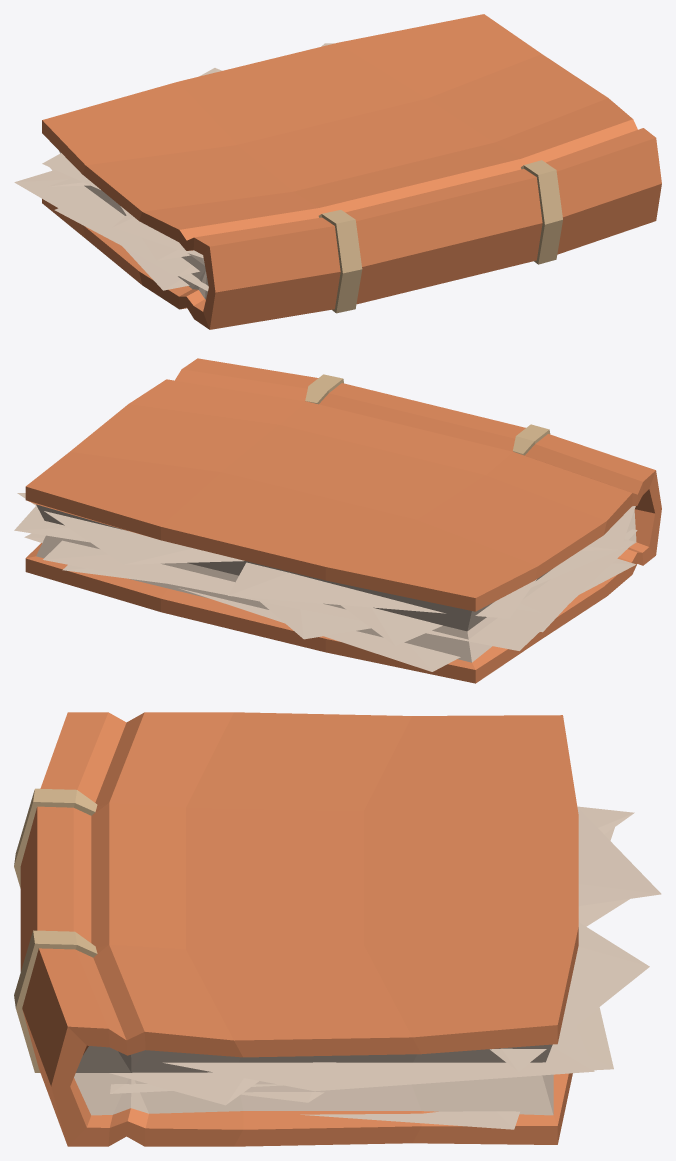
The model's file is Book02_Closed.fbx.
3 renders of one model, top to bottom at view 1: azimuth 30°, elevation 25°; view 2: azimuth 150°, elevation 25°; view 3: azimuth 270°, elevation 25°, orthographic. The views are drawn at different scales.
Parts seen in each view (by area): view 1: Book02_Closed; view 2: Book02_Closed; view 3: Book02_Closed.
Part boxes in pixels (x1,y1,x2,y2): Book02_Closed: (14,14,661,329); Book02_Closed: (14,358,661,683); Book02_Closed: (14,712,661,1146).
Bounding box in the file's own units: 1.08 × 0.1831 × 0.831.
